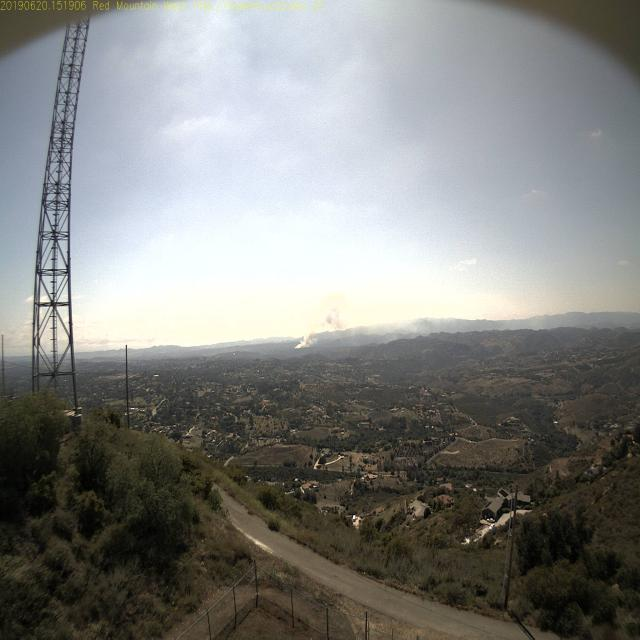smoke: (292, 316, 330, 357)
